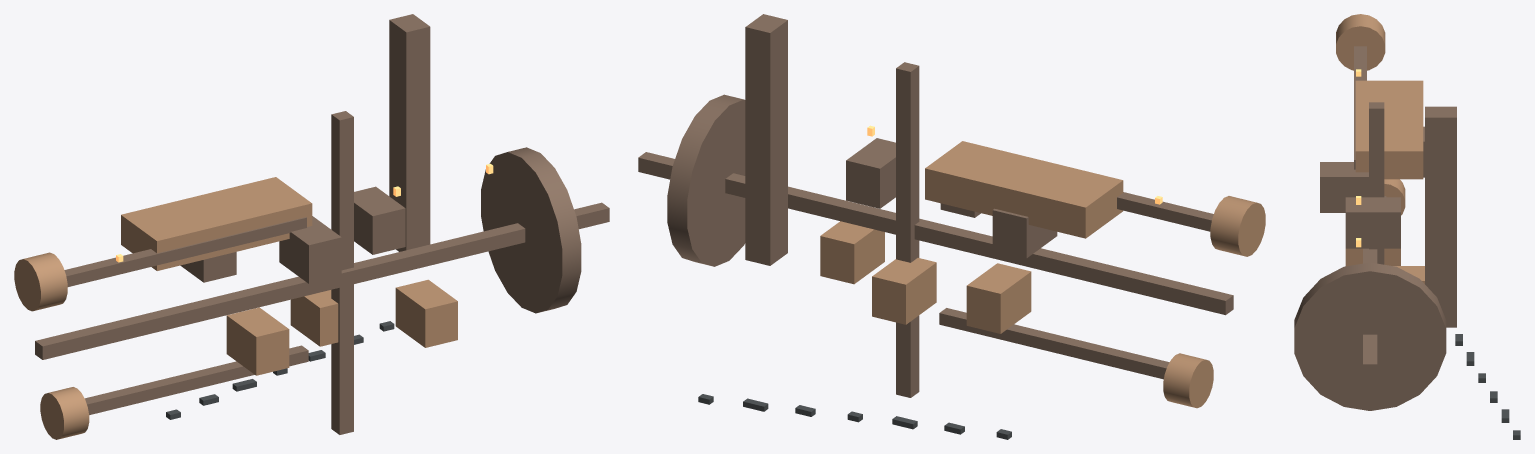
File: station-mars.glb
The picture shows the model from 3 angles, left to right: view 1: azimuth 30°, elevation 25°; view 2: azimuth 150°, elevation 25°; view 3: azimuth 270°, elevation 25°; orthographic projection. The views are drawn at different scales.
Parts seen in each view (by area): view 1: gate-primary, truss-main, gantry-command, foundry-crane, truss-cross, berth-arm-alpha, cargo-module-2, cargo-module-6, berth-arm-beta, cargo-module-3, cargo-module-5, docking-collar-alpha (+3 smaller); view 2: gantry-command, gate-primary, foundry-crane, truss-main, truss-cross, berth-arm-beta, cargo-module-2, cargo-module-4, cargo-module-6, cargo-module-5, docking-collar-alpha, docking-collar-beta (+2 smaller); view 3: gate-primary, foundry-crane, gantry-command, cargo-module-5, docking-collar-alpha, cargo-module-3, truss-cross, truss-main, cargo-module-2, berth-arm-alpha, docking-collar-beta, cargo-module-4.
Boxes of the visible parts, x1,y1,x2,y2 form: gate-primary: (481, 147, 581, 313); truss-main: (35, 202, 609, 359); gantry-command: (121, 177, 312, 270); foundry-crane: (389, 14, 430, 251); truss-cross: (331, 111, 353, 434); berth-arm-alpha: (64, 217, 306, 286); cargo-module-2: (226, 307, 289, 375); cargo-module-6: (395, 279, 457, 347); berth-arm-beta: (85, 345, 308, 414); cargo-module-3: (279, 216, 341, 283); cargo-module-5: (354, 186, 405, 254); docking-collar-alpha: (14, 252, 67, 311); gantry-command: (925, 141, 1123, 238); gate-primary: (667, 94, 745, 266); foundry-crane: (745, 14, 787, 265); truss-main: (638, 152, 1233, 315); truss-cross: (896, 62, 919, 397); berth-arm-beta: (939, 308, 1169, 379); cargo-module-2: (966, 263, 1031, 333); cargo-module-4: (872, 258, 936, 324); cargo-module-6: (820, 221, 884, 284); cargo-module-5: (846, 138, 895, 208); docking-collar-alpha: (1210, 196, 1265, 256); docking-collar-beta: (1163, 353, 1213, 408); gate-primary: (1294, 262, 1446, 410); foundry-crane: (1425, 106, 1456, 327); gantry-command: (1355, 80, 1423, 179); cargo-module-5: (1345, 197, 1400, 248); docking-collar-alpha: (1336, 14, 1385, 70); cargo-module-3: (1320, 162, 1368, 212); truss-cross: (1369, 102, 1384, 264); truss-main: (1363, 248, 1377, 377); cargo-module-2: (1345, 248, 1400, 266); berth-arm-alpha: (1354, 46, 1366, 169); docking-collar-beta: (1384, 179, 1405, 215); cargo-module-4: (1393, 266, 1424, 283).
Size of the model in its own units: 9.78 by 5.72 by 3.52.
